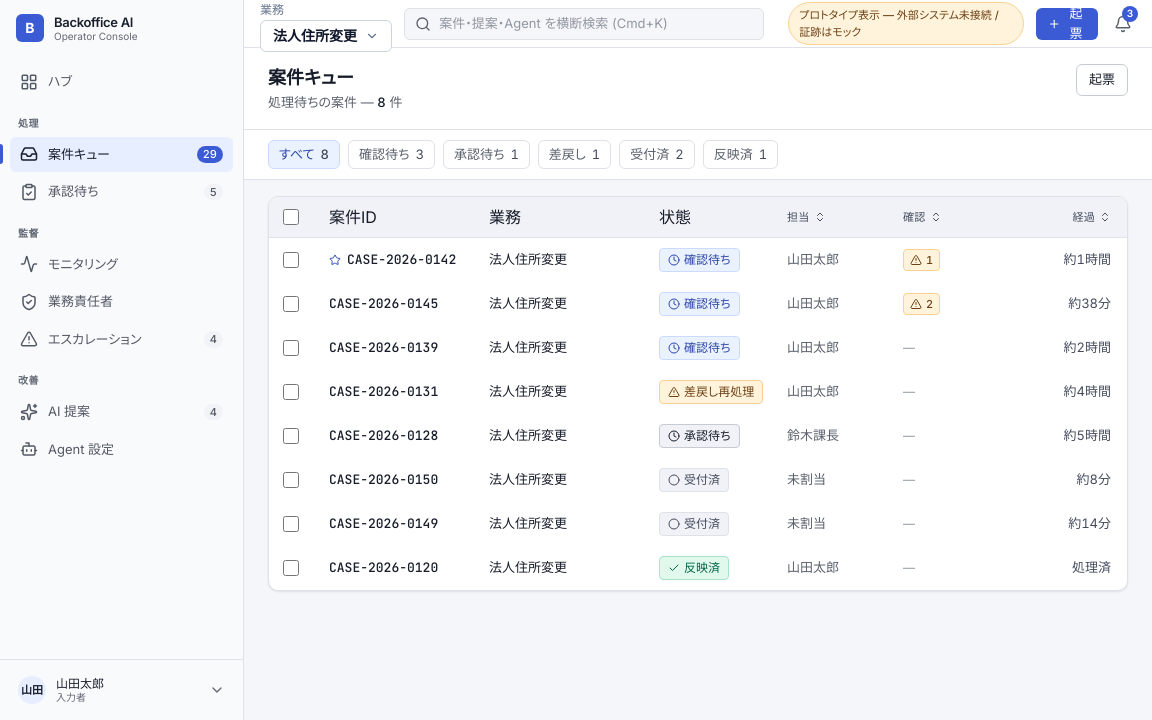
Test: P1-1: ProcessSelector が /cases の list filter に伝播する › 全業務 に切替 → 両業務の案件が表示
Click the button "法人住所変更". click: (326, 36)
box: [260,20,392,52]
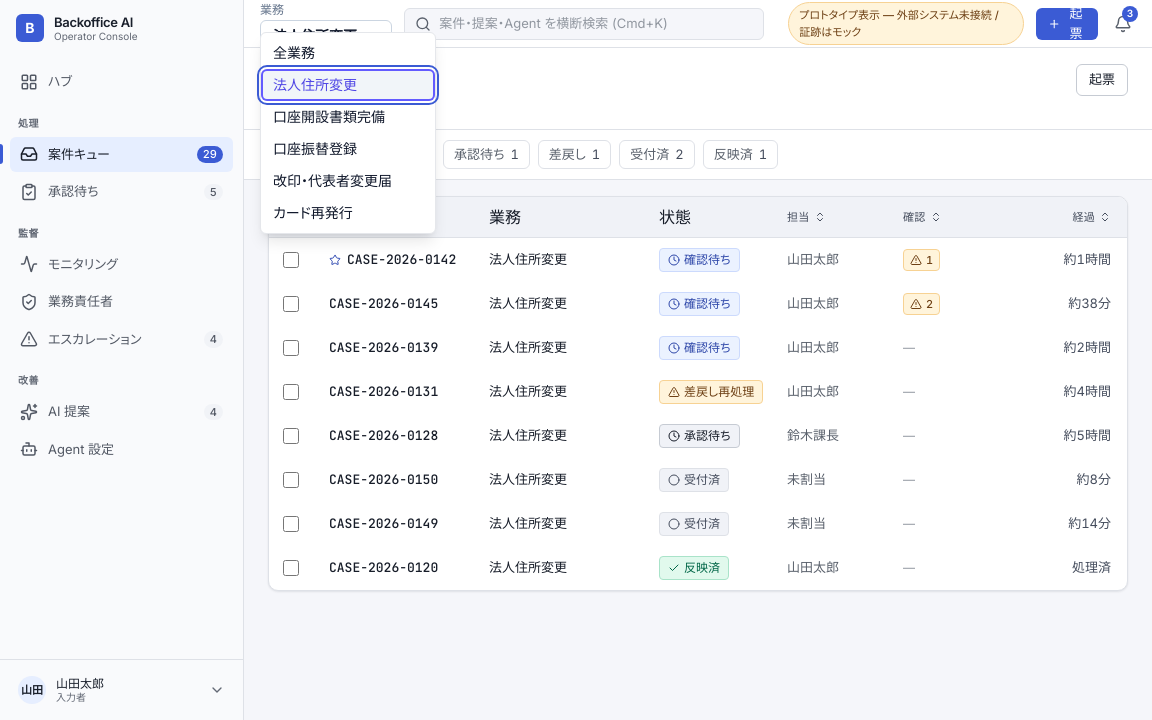
Click the option "全業務". click: (294, 52)
box: [273,44,315,60]
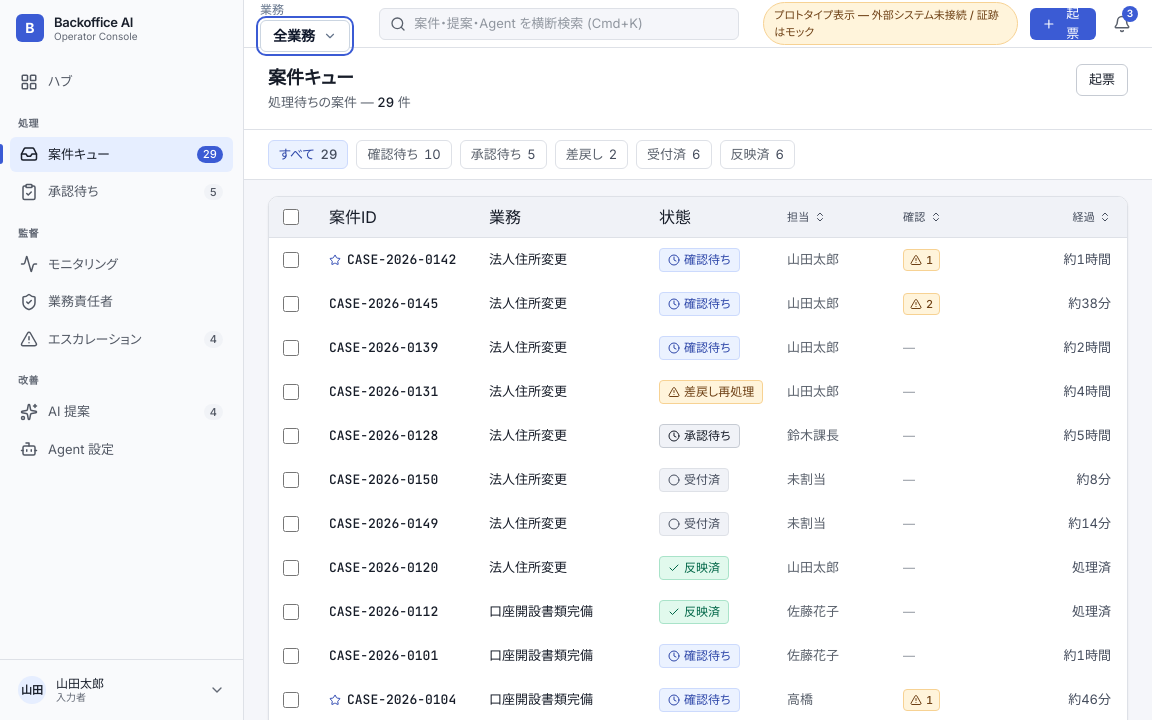
Expected: the text "CASE-2026-0142" is shown, [329,250,477,270]
Expected: the text "CASE-2026-0104" is shown, [329,690,477,710]
